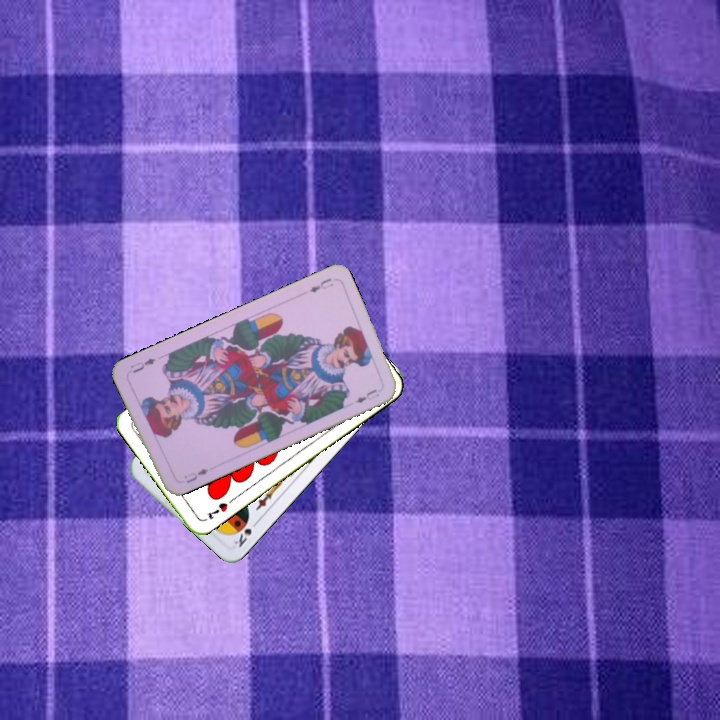EU: (180, 464, 211, 486), (305, 274, 336, 295)
H7: (203, 498, 230, 521)
SK: (230, 516, 262, 550)
